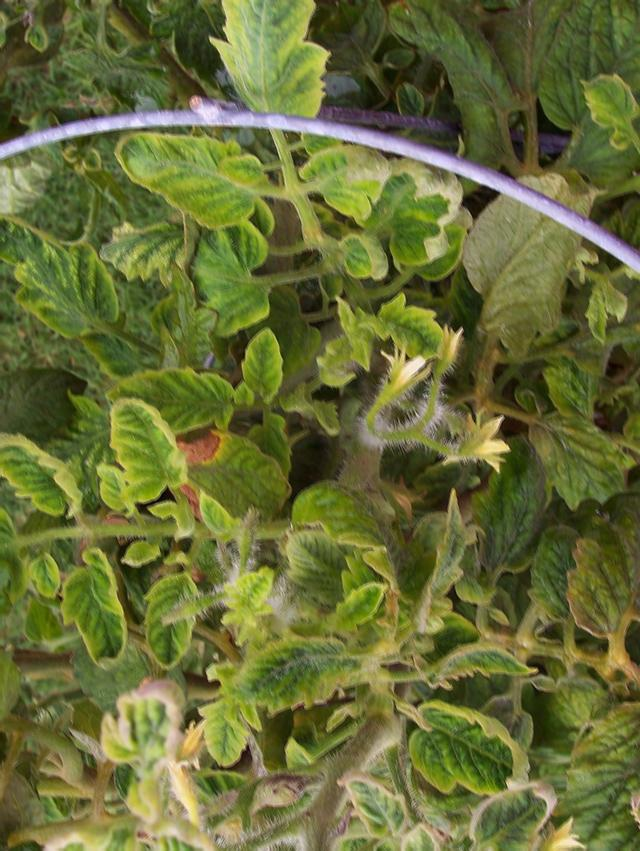Tomato leaf yellow virus: (212, 0, 331, 156), (210, 630, 392, 730), (113, 134, 273, 234), (406, 700, 540, 814), (92, 393, 200, 530), (285, 520, 392, 618), (73, 369, 242, 431), (285, 134, 397, 219), (0, 413, 83, 522), (64, 544, 133, 674), (574, 71, 640, 180), (197, 669, 257, 777), (145, 569, 200, 675), (235, 324, 292, 425), (355, 303, 447, 365)
